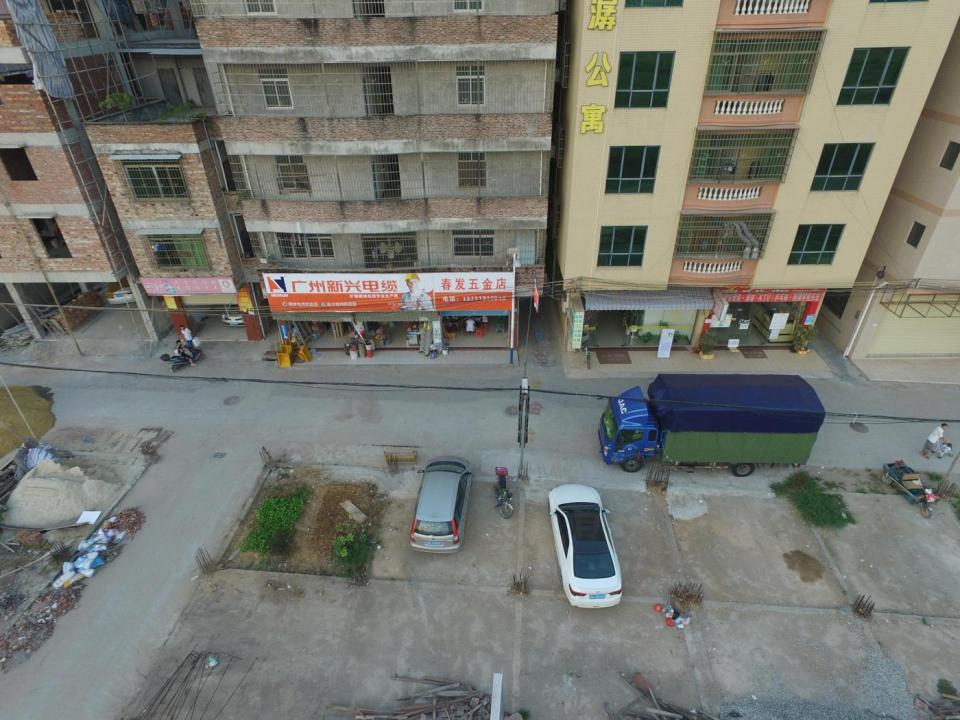car: (549, 482, 622, 610), (410, 455, 474, 553), (108, 250, 152, 304), (221, 278, 264, 326)
truck: (597, 371, 824, 478)
